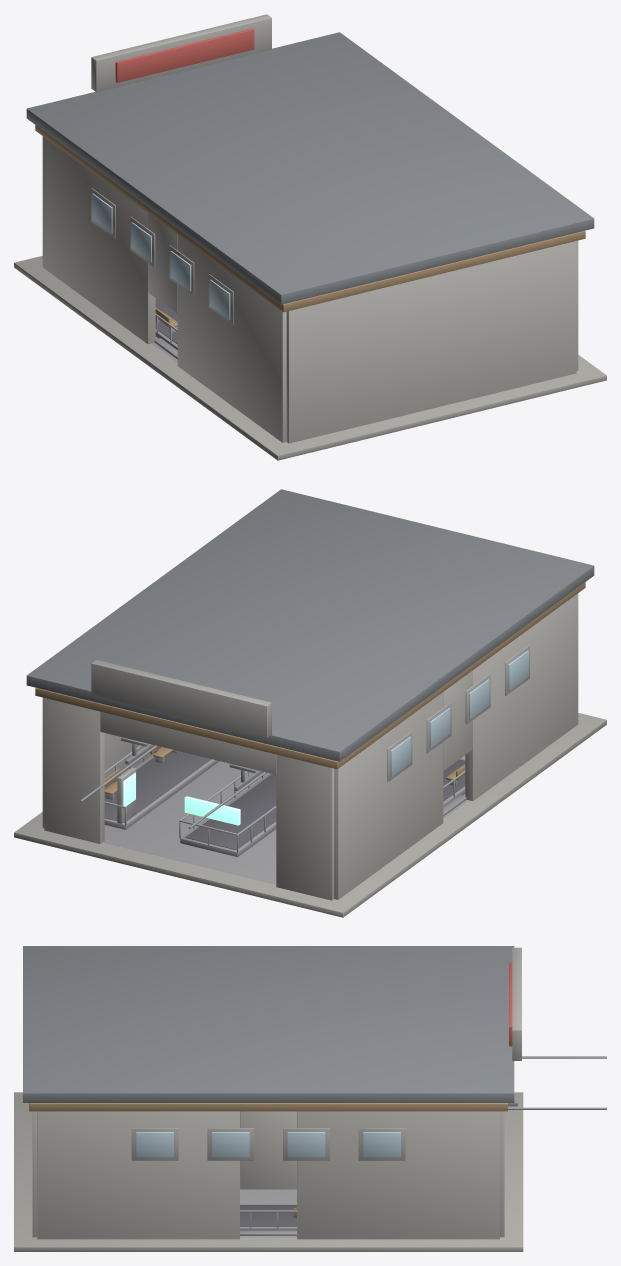
File: th26_seilbahn_station.glb
The picture shows the model from 3 angles, top to bottom: view 1: azimuth 30°, elevation 25°; view 2: azimuth 150°, elevation 25°; view 3: azimuth 270°, elevation 25°; orthographic projection. The views are drawn at different scales.
Parts seen in each view (by area): view 1: Cube.028, Cube.005, Cube.006, Cube.007, Cube, Cube.029, Cube.030, Cube.031, Cube.008, Cube.010, Cube.012; view 2: Cube.028, Cube.007, Cube.006, Cube, Cube.003, Cube.002, Cube.001, Cube.030, Cube.029, Cube.004, Cube.033, Cube.070 (+10 smaller); view 3: Cube.028, Cube.017, Cube.018, Cube, Cube.029, Cube.019, Cube.070, Cube.030, Cube.001, Cube.025, Cube.021, Cube.023 (+7 smaller).
Part boxes in pixels (x1,y1,x2,y2): Cube.028: [26, 32, 594, 304]; Cube.005: [286, 241, 576, 443]; Cube.006: [177, 235, 286, 442]; Cube.007: [42, 136, 155, 344]; Cube: [14, 256, 606, 460]; Cube.029: [35, 125, 585, 312]; Cube.030: [91, 14, 271, 92]; Cube.031: [115, 28, 254, 82]; Cube.008: [148, 213, 177, 313]; Cube.010: [209, 279, 230, 319]; Cube.012: [170, 251, 191, 291]; Cube.028: [26, 489, 594, 761]; Cube.007: [334, 692, 443, 899]; Cube.006: [465, 593, 578, 801]; Cube: [14, 713, 606, 917]; Cube.003: [44, 698, 104, 843]; Cube.002: [276, 754, 334, 900]; Cube.001: [102, 755, 468, 884]; Cube.030: [91, 660, 271, 737]; Cube.029: [35, 582, 585, 769]; Cube.004: [100, 711, 276, 774]; Cube.033: [185, 774, 276, 850]; Cube.070: [104, 751, 211, 822]; Cube.028: [23, 946, 514, 1102]; Cube.017: [37, 1111, 239, 1239]; Cube.018: [297, 1111, 499, 1239]; Cube: [14, 1092, 523, 1251]; Cube.029: [29, 1103, 507, 1111]; Cube.019: [240, 1111, 296, 1189]; Cube.070: [240, 1205, 296, 1226]; Cube.030: [512, 947, 521, 1060]; Cube.001: [240, 1189, 296, 1237]; Cube.025: [287, 1132, 325, 1157]; Cube.021: [136, 1132, 173, 1157]; Cube.023: [212, 1132, 249, 1157].
Bounding box in the file's own units: 20.6 × 11.5 × 33.3.
